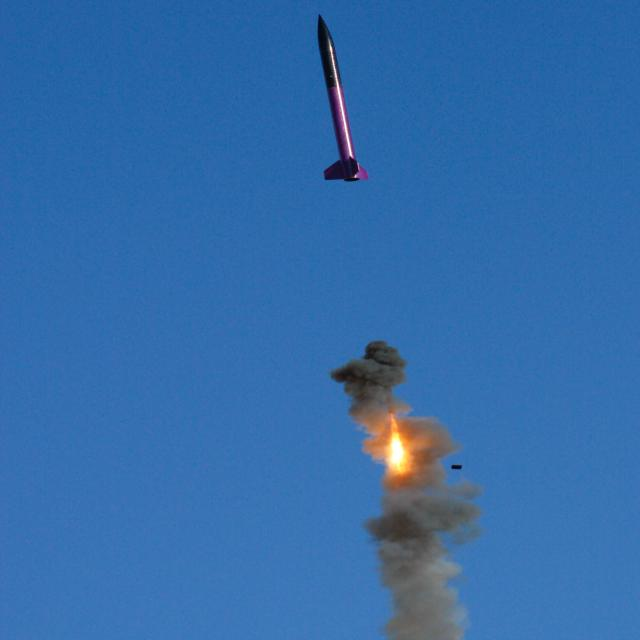Rocket: (317, 12, 371, 182)
